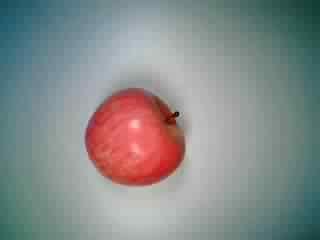apple: (84, 83, 188, 187)
